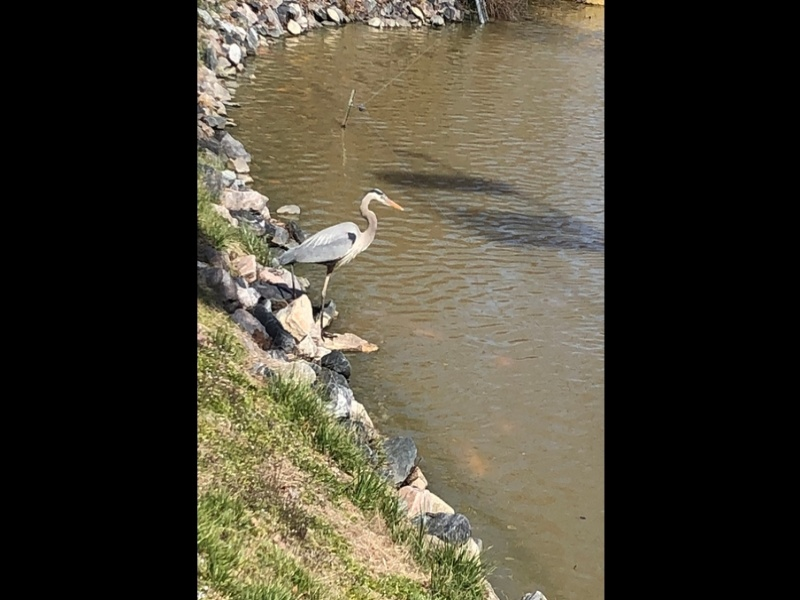heron: (272, 187, 409, 341)
